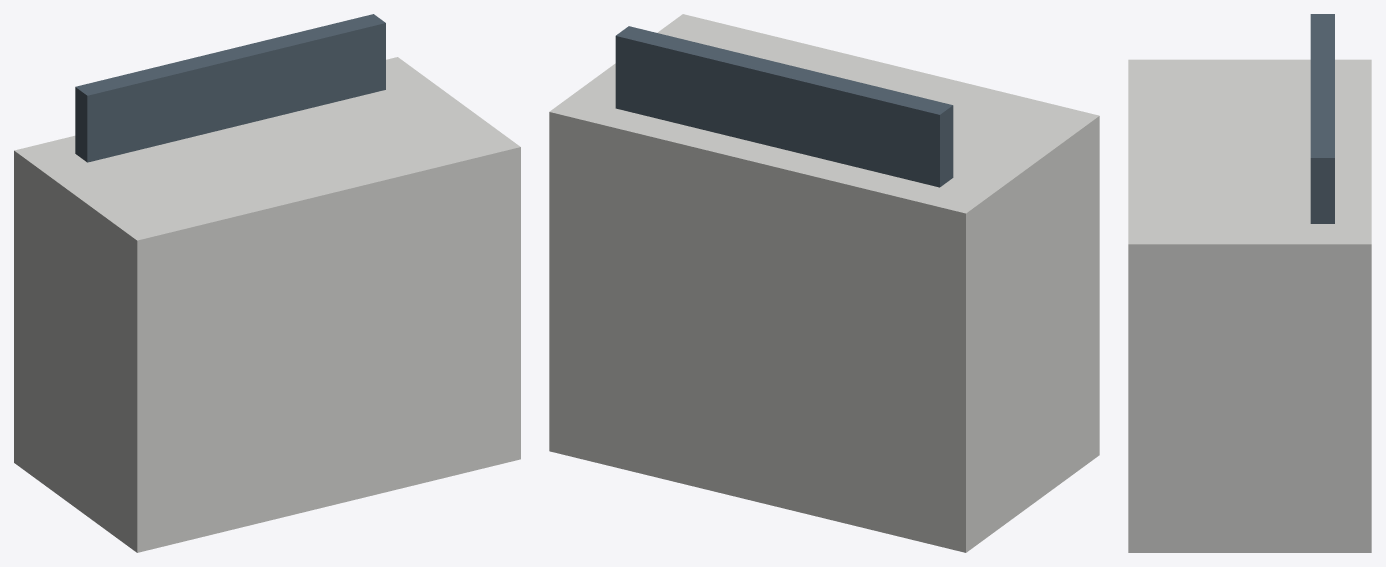
Rendered from wheelhouse_console.glb.
3 renders of one model, left to right at view 1: azimuth 30°, elevation 25°; view 2: azimuth 150°, elevation 25°; view 3: azimuth 270°, elevation 25°, orthographic. The views are drawn at different scales.
Visible parts, largest first — view 1: console, screen; view 2: console, screen; view 3: console, screen.
Part boxes in pixels (x1,y1,x2,y2): console: [14, 57, 520, 552]; screen: [75, 14, 385, 162]; console: [549, 14, 1099, 552]; screen: [615, 26, 953, 187]; console: [1128, 59, 1371, 552]; screen: [1310, 14, 1334, 223].
Bounding box in the file's own units: 1.8 × 1.7 × 1.
